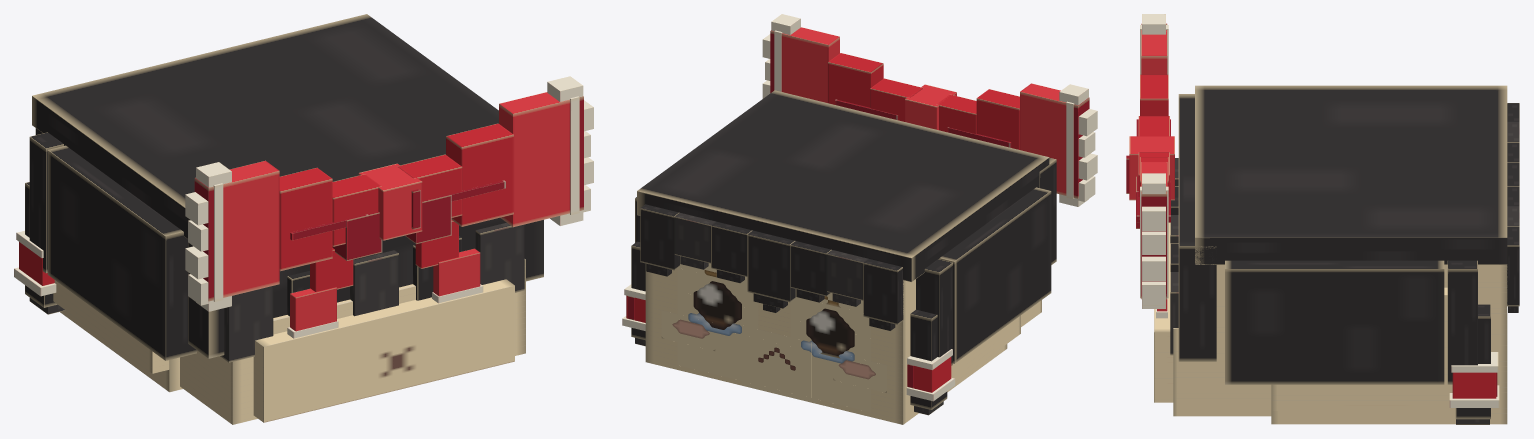
The model's file is compression_reimu_1.obj.
3 views of the same model, side by side, from view 1: azimuth 30°, elevation 25°; view 2: azimuth 150°, elevation 25°; view 3: azimuth 270°, elevation 25° (orthographic). The views are drawn at different scales.
Parts seen in each view (by area): view 1: compression_reimu_1; view 2: compression_reimu_1; view 3: compression_reimu_1.
Part boxes in pixels (x1,y1,x2,y2): compression_reimu_1: (14, 14, 593, 424); compression_reimu_1: (622, 14, 1097, 424); compression_reimu_1: (1126, 14, 1519, 424).
Bounding box in the file's own units: 16.28 × 10.75 × 15.07.
Materials: 1 (1 with a texture image).
